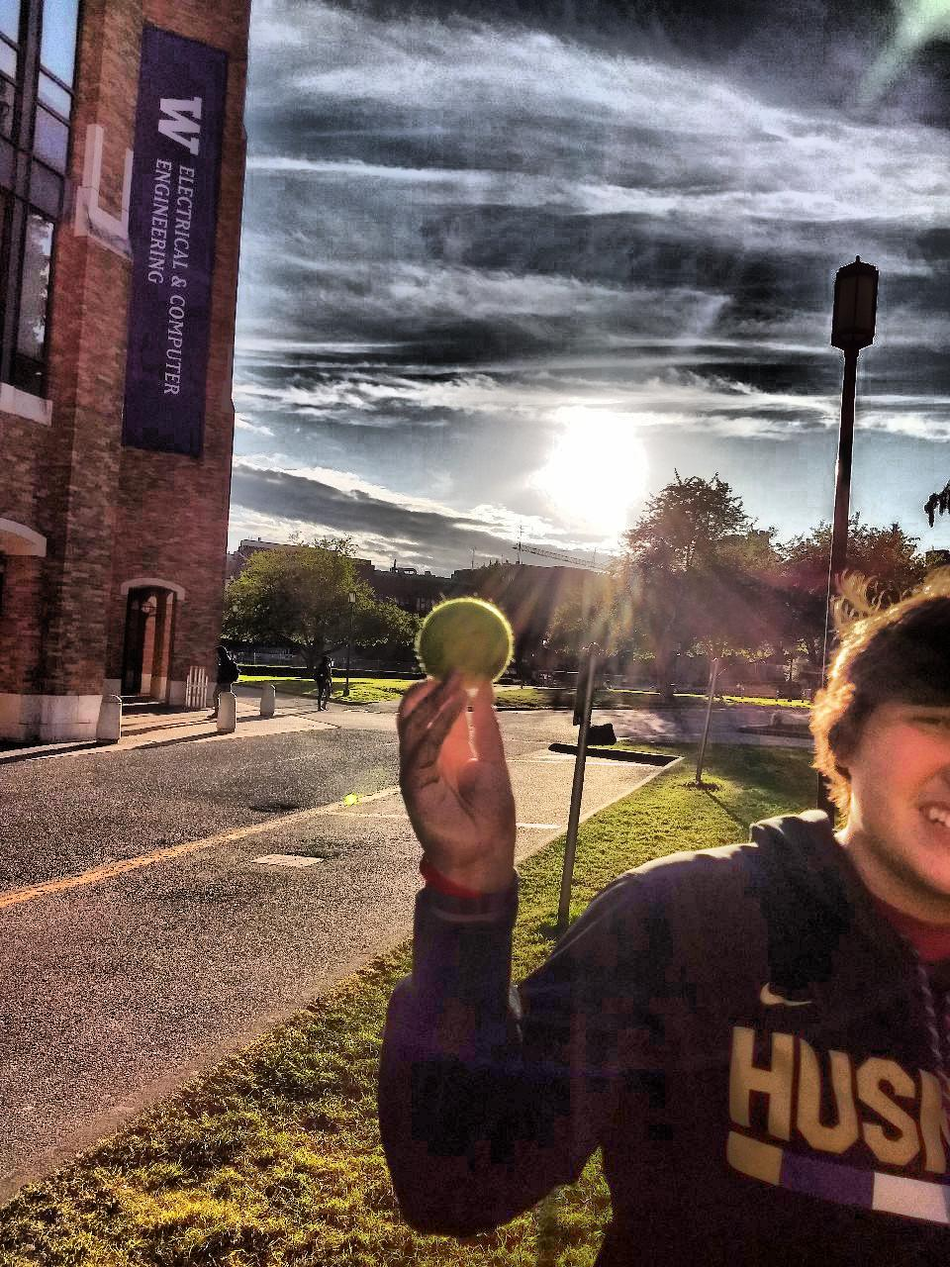Tennis_Ball: (413, 592, 517, 708)
